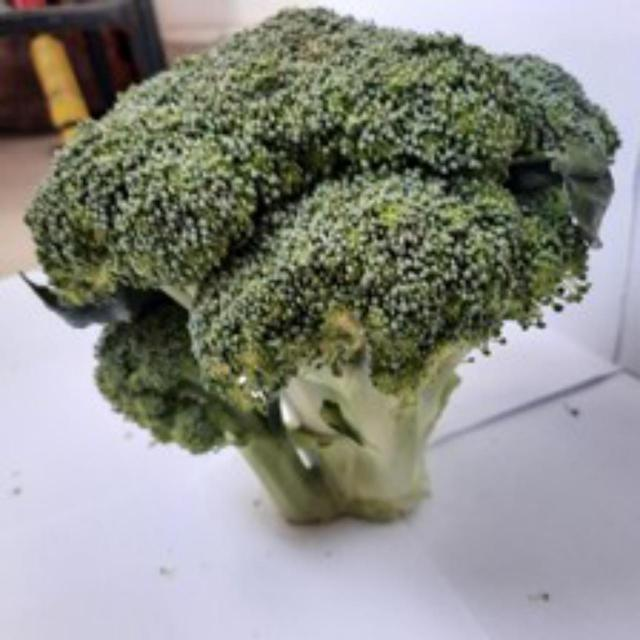broccoli: (22, 0, 635, 538)
